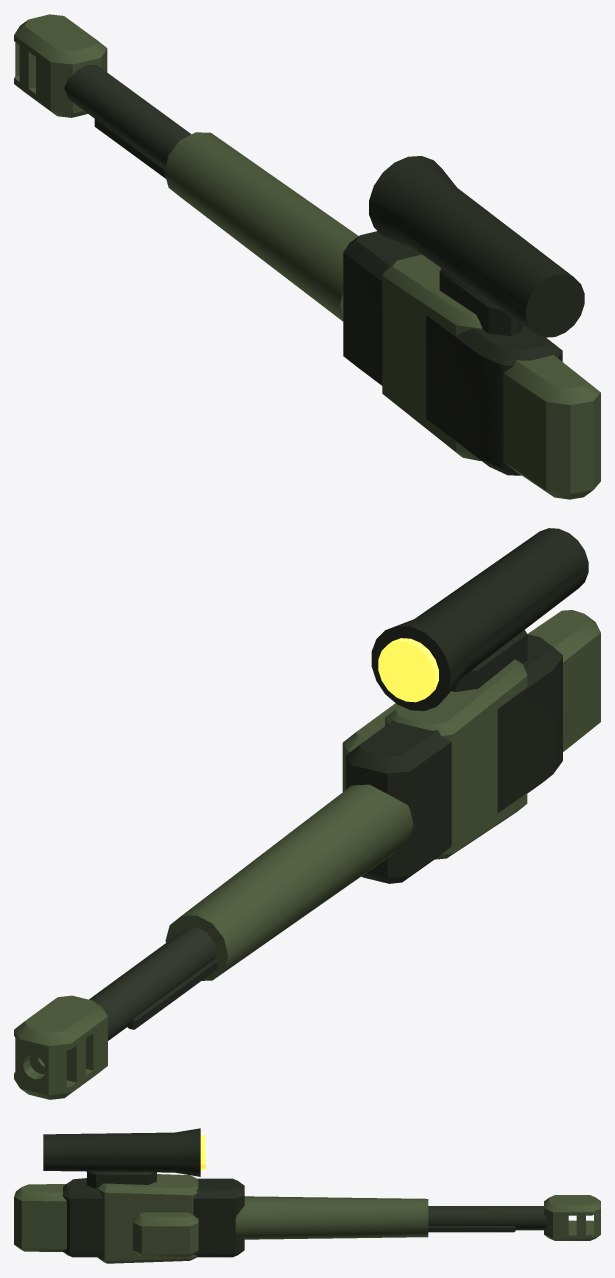
File: w_b_sniper_gun.glb
The picture shows the model from 3 angles, top to bottom: view 1: azimuth 30°, elevation 25°; view 2: azimuth 150°, elevation 25°; view 3: azimuth 270°, elevation 25°; orthographic projection. The views are drawn at different scales.
Parts seen in each view (by area): view 1: weapon_body, weapon_metal; view 2: weapon_body, weapon_metal, weapon; view 3: weapon_body, weapon_metal, weapon.
Boxes of the visible parts, x1,y1,x2,y2 form: weapon_body: (14,14,600,499); weapon_metal: (64,65,191,166); weapon_body: (14,528,600,1099); weapon_metal: (89,927,216,1040); weapon: (378,638,438,702); weapon_body: (14,1128,600,1263); weapon_metal: (428,1206,547,1230); weapon: (200,1135,205,1169).
Size of the model in its own units: 0.9909 by 1.92 by 8.05.
